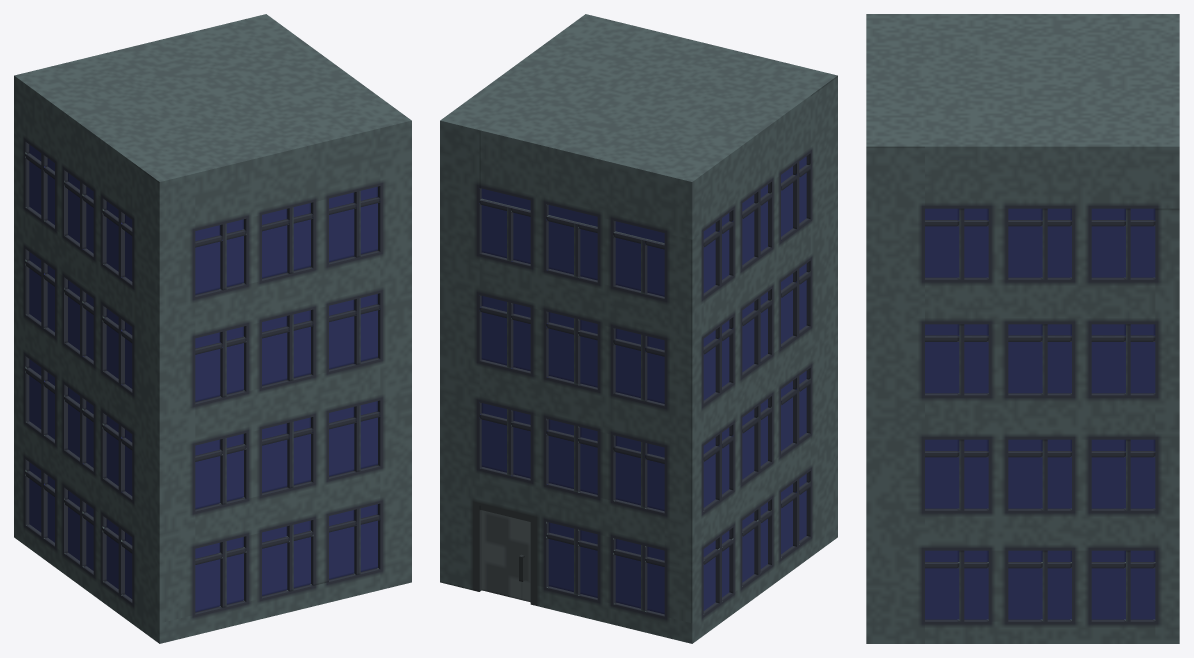
The model's file is b_uni5_med.dae.
3 views of the same model, side by side, from view 1: azimuth 30°, elevation 25°; view 2: azimuth 150°, elevation 25°; view 3: azimuth 270°, elevation 25° (orthographic). The views are drawn at different scales.
Parts seen in each view (by area): view 1: Content; view 2: Content; view 3: Content.
Boxes of the visible parts, x1=… form: Content: x1=14, y1=14, x2=411, y2=643; Content: x1=440, y1=14, x2=837, y2=643; Content: x1=866, y1=14, x2=1179, y2=643.
Bounding box in the file's own units: 64 × 112 × 64.
1 material, 1 textured.
